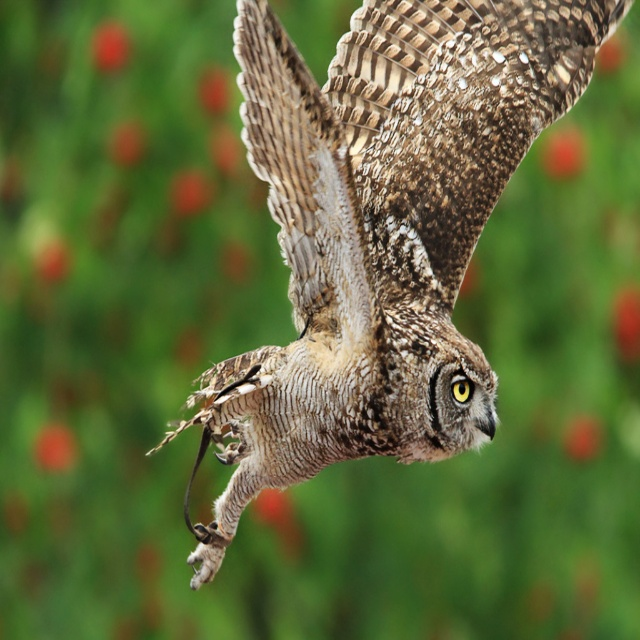Owl: (145, 0, 635, 591)
